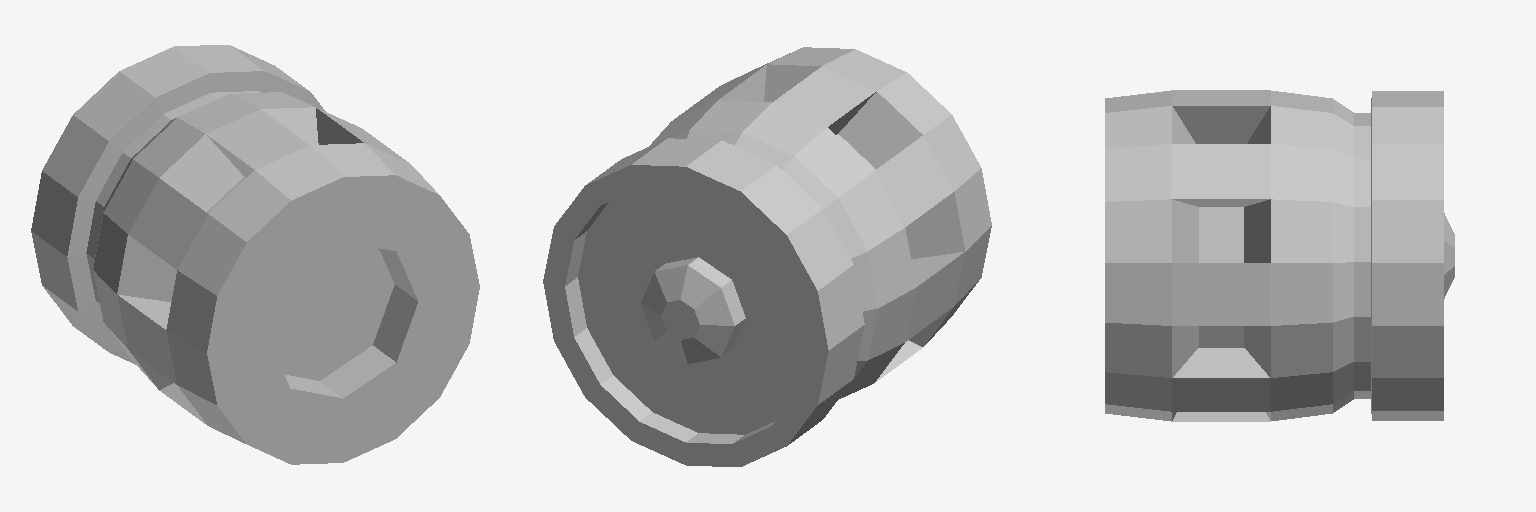
File: RCS.obj
3 renders of one model, left to right at view 1: azimuth 30°, elevation 25°; view 2: azimuth 150°, elevation 25°; view 3: azimuth 270°, elevation 25°, orthographic.
Bounding box in the file's own units: 0.3017 × 0.3017 × 0.3184.